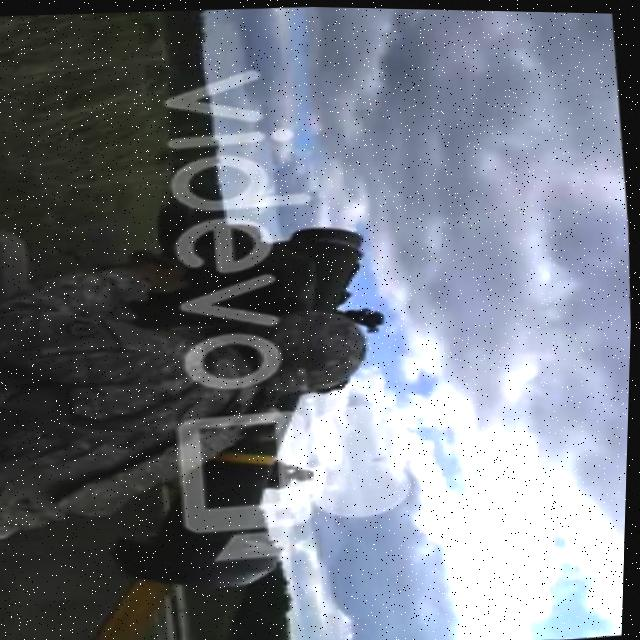rocket: (86, 217, 399, 594)
